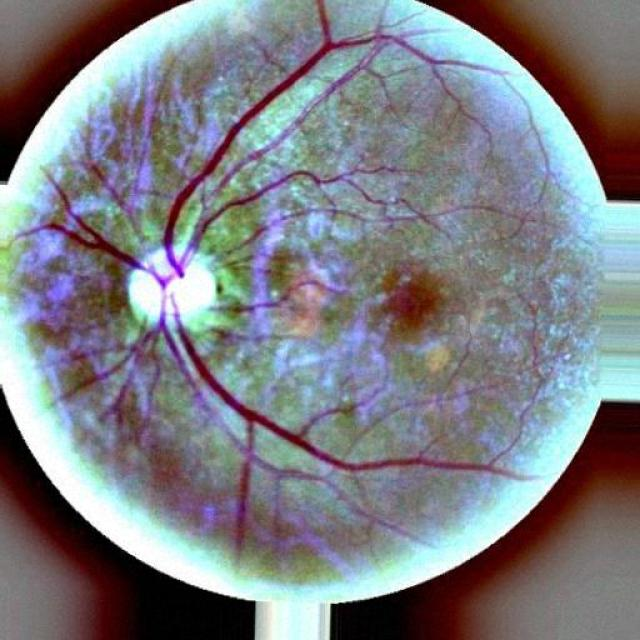Macula: (385, 272, 440, 331)
Nerves: (44, 0, 514, 540)
Optic Disk: (128, 248, 216, 324)
